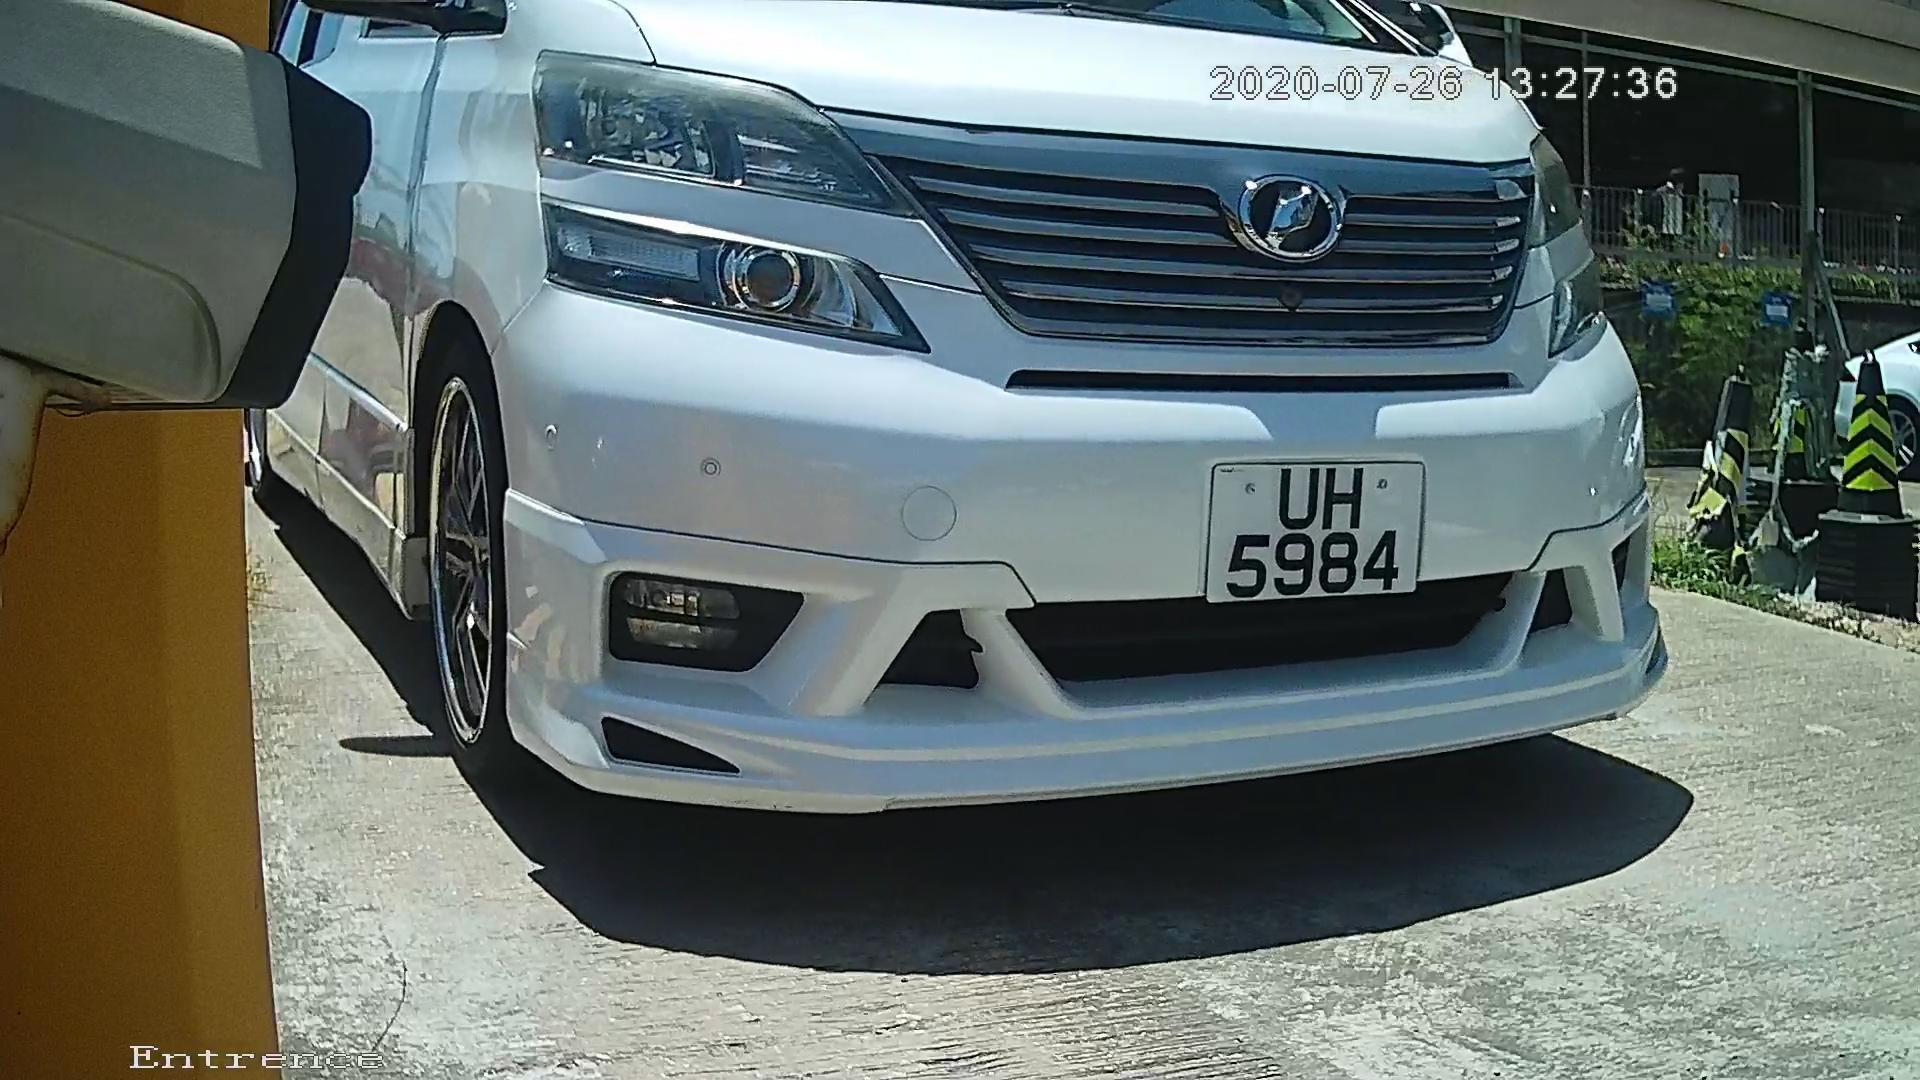privatecar: (318, 5, 1681, 897)
